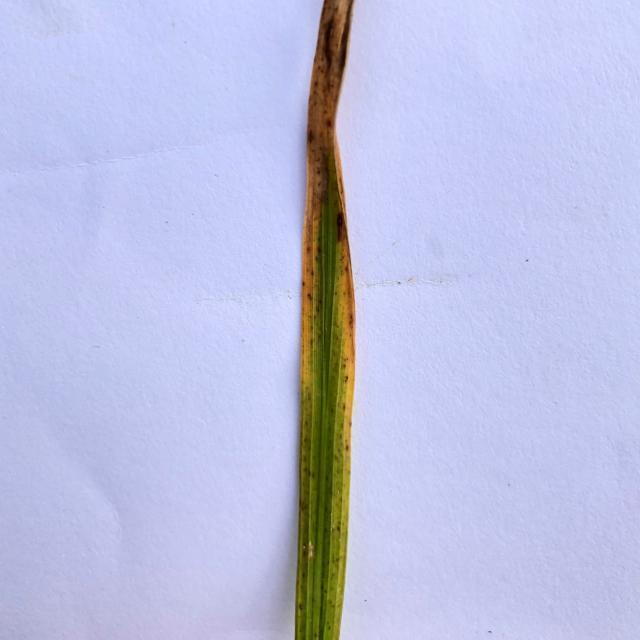Rice Tungro: (330, 206, 360, 489), (301, 203, 321, 397)
